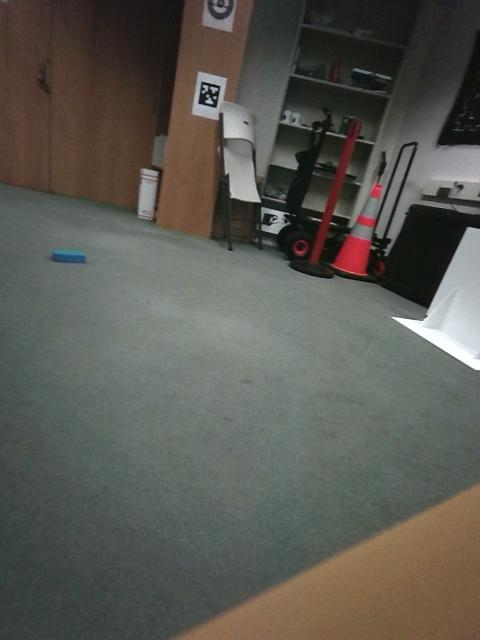block: (66, 356, 149, 425)
